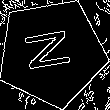N_E: (23, 28, 80, 77)
